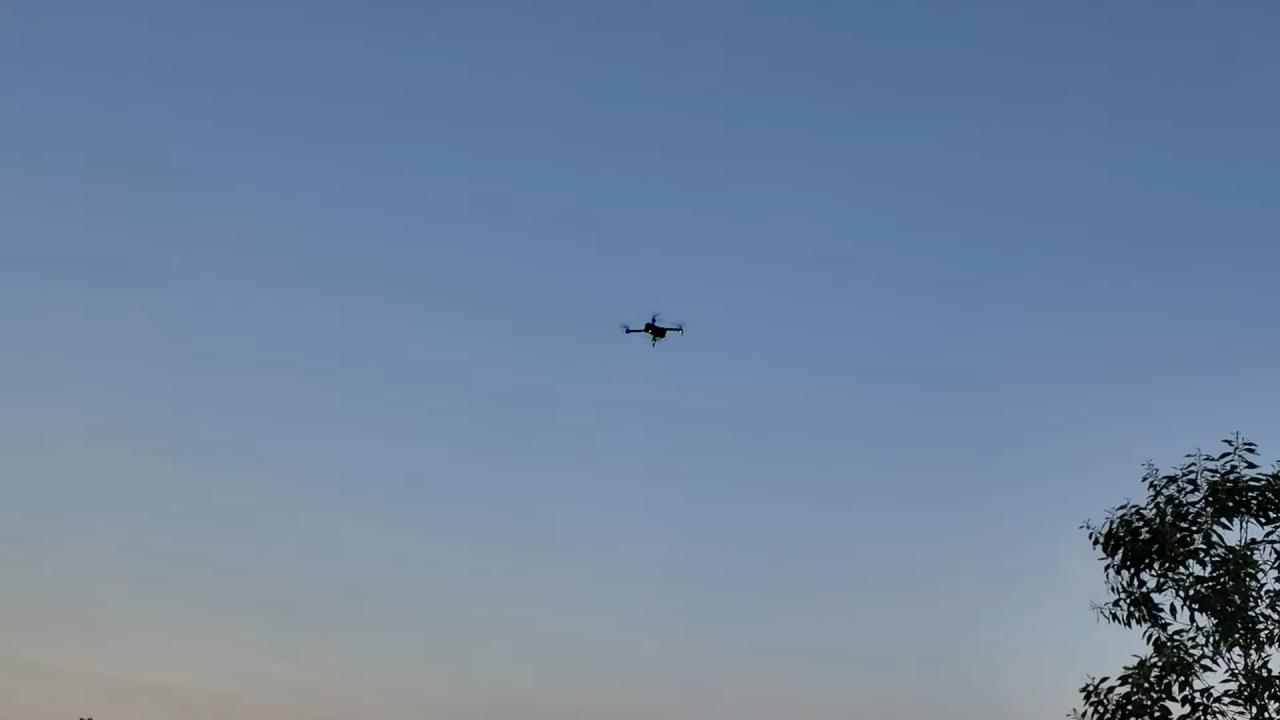Drone: (609, 300, 695, 358)
